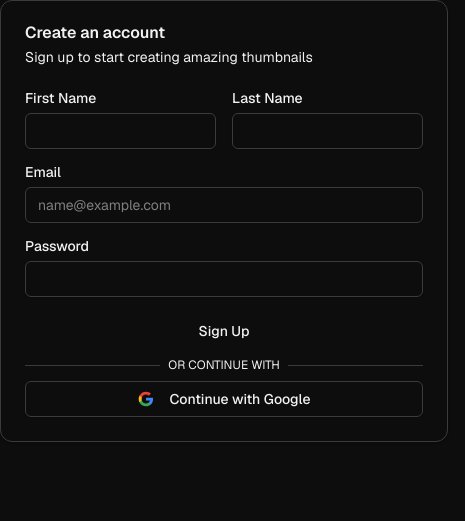
Test: Authentication Components › SignUpForm › should display error message on sign up failure
In the field labelled "First Name": (120,131) x1=25 y1=113 x2=216 y2=149, type "John"
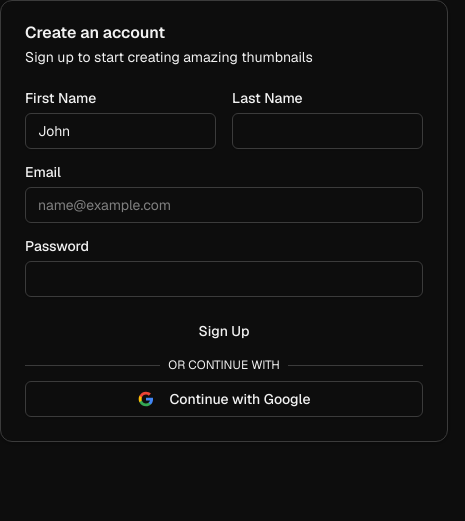
In the field labelled "Last Name": (328,131) x1=232 y1=113 x2=423 y2=149, type "Doe"
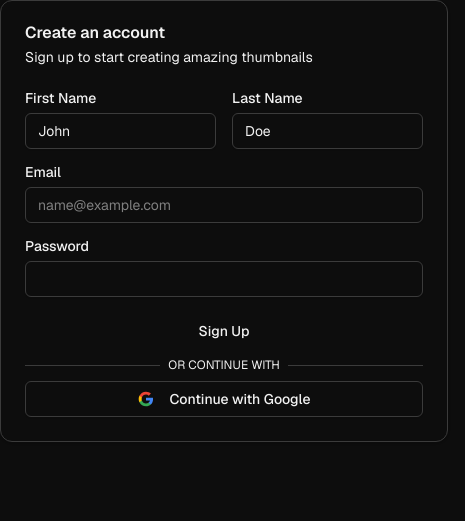
In the field labelled "Email": (224,205) x1=25 y1=187 x2=423 y2=223, type "john@example.com"
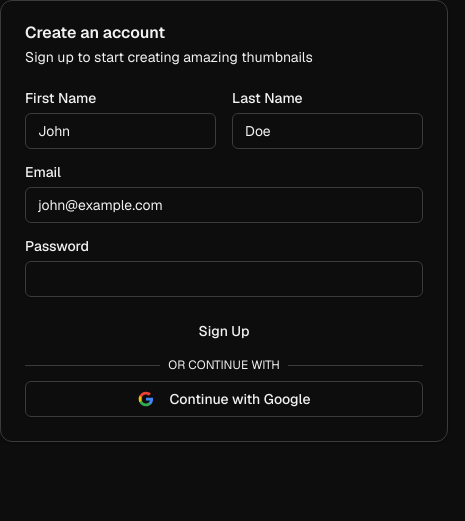
In the password field labelled "Password": (224,279) x1=25 y1=261 x2=423 y2=297, type "password123"
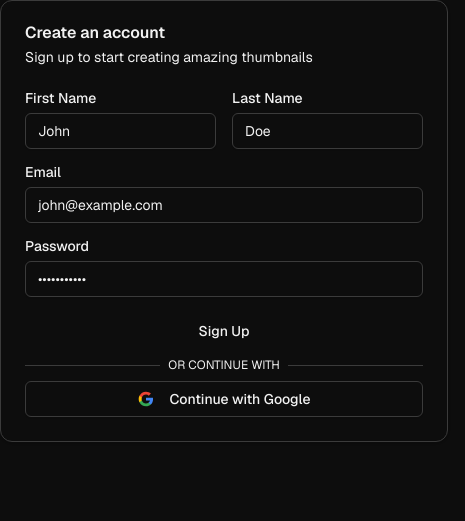
Click the button "Sign Up": (224,331) x1=25 y1=313 x2=423 y2=349
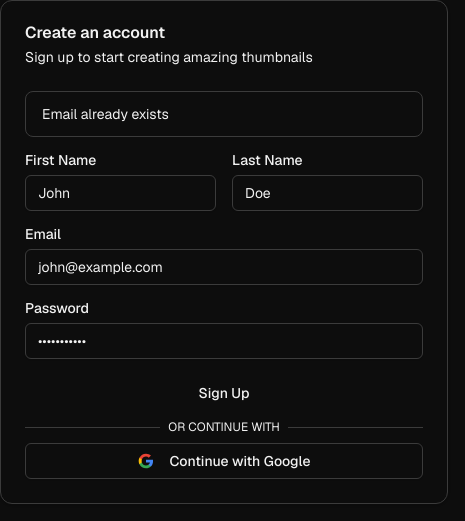
Expected: the text "Email already exists" is shown, x1=42 y1=105 x2=169 y2=123
